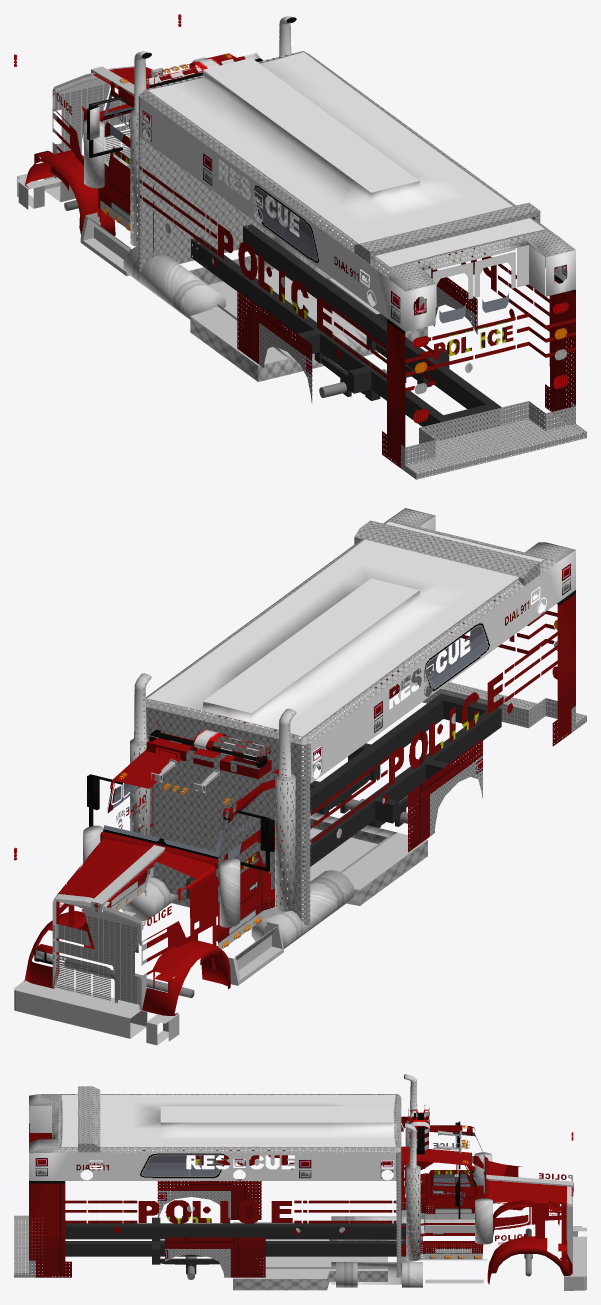
The model's file is 88w900firedept.fbx.
The picture shows the model from 3 angles, top to bottom: view 1: azimuth 30°, elevation 25°; view 2: azimuth 150°, elevation 25°; view 3: azimuth 270°, elevation 25°; orthographic projection. The views are drawn at different scales.
Visible parts, largest first — view 1: 88W900firedept; view 2: 88W900firedept; view 3: 88W900firedept.
Part boxes in pixels (<box>): 88W900firedept: <box>14,14,586,479</box>; 88W900firedept: <box>14,508,586,1045</box>; 88W900firedept: <box>14,1074,586,1290</box>.
Bounding box in the file's own units: 2.89 × 3.57 × 11.14.
